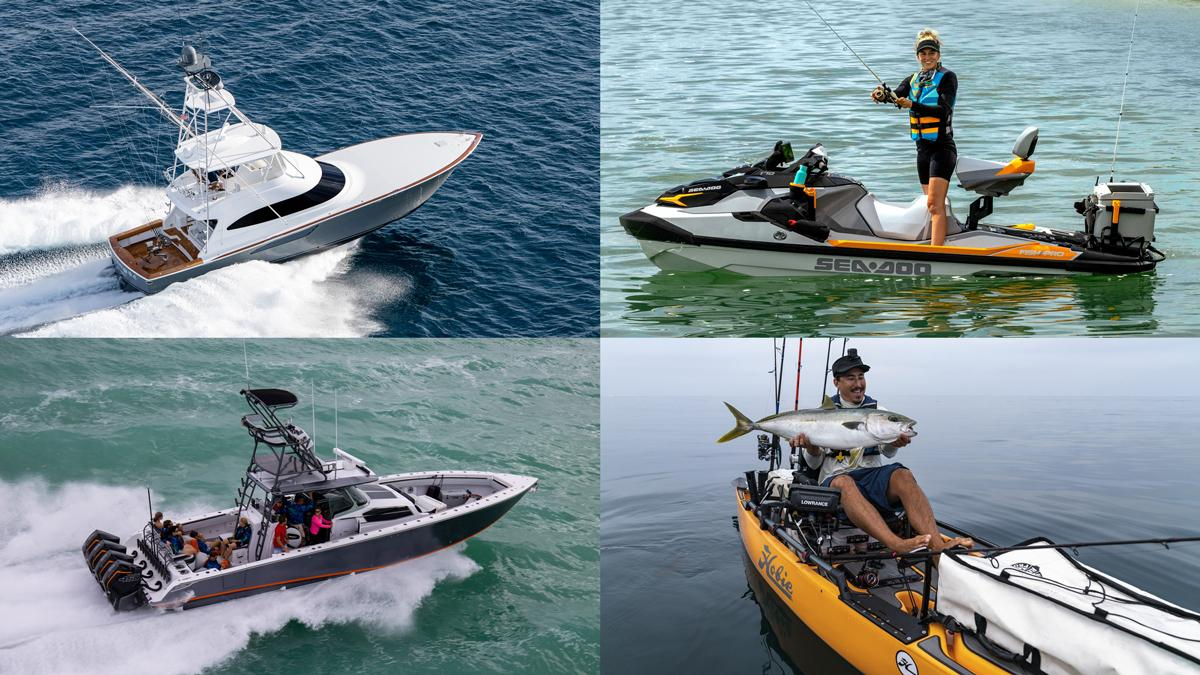fishing boat: (729, 344, 1200, 673), (617, 21, 1170, 278), (40, 17, 493, 296), (75, 375, 545, 621)
